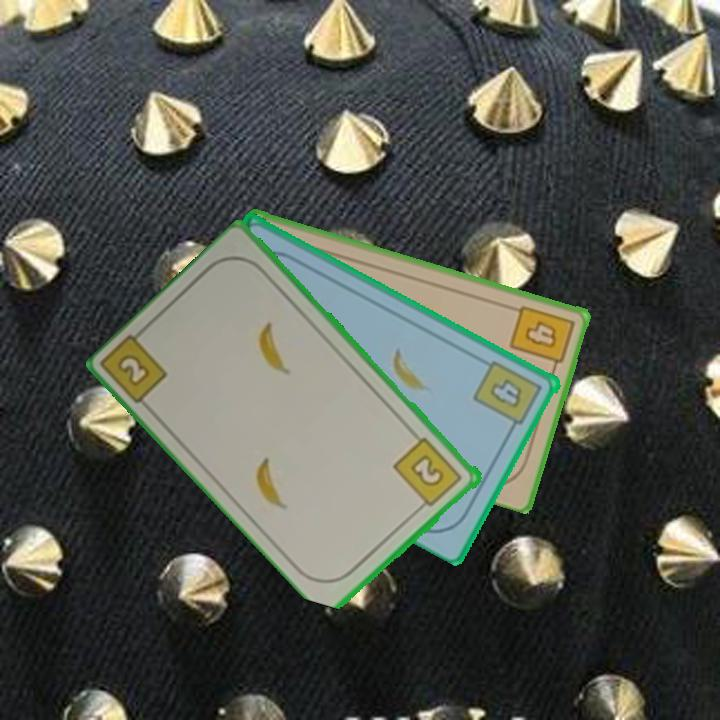2b: (390, 434, 466, 514), (114, 350, 154, 390)
4b: (470, 357, 546, 436), (506, 301, 577, 375)
